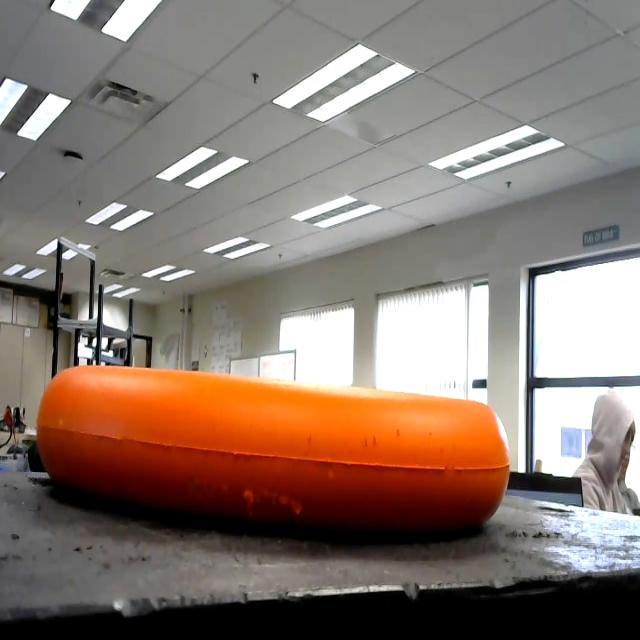note: (40, 356, 528, 547)
